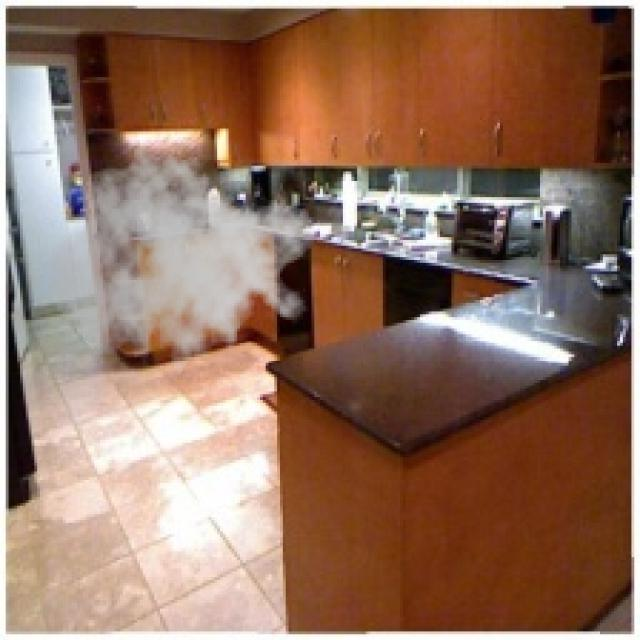Smoke: (49, 140, 318, 386)
